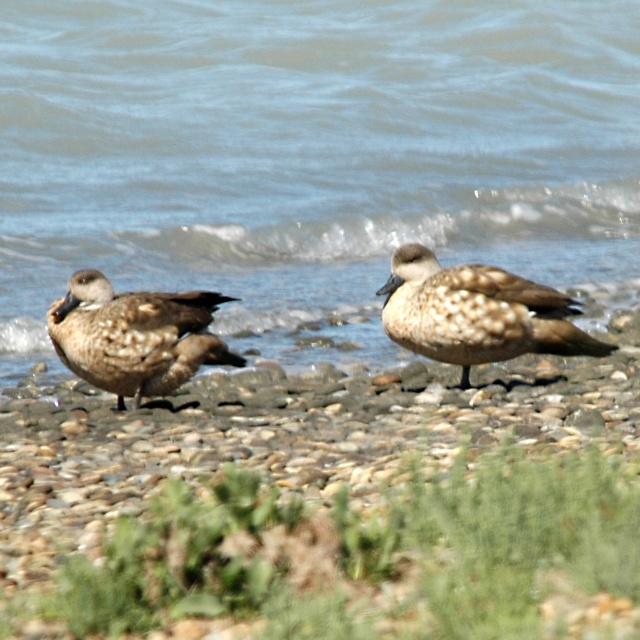Duck: (378, 238, 623, 393), (36, 258, 268, 409)
